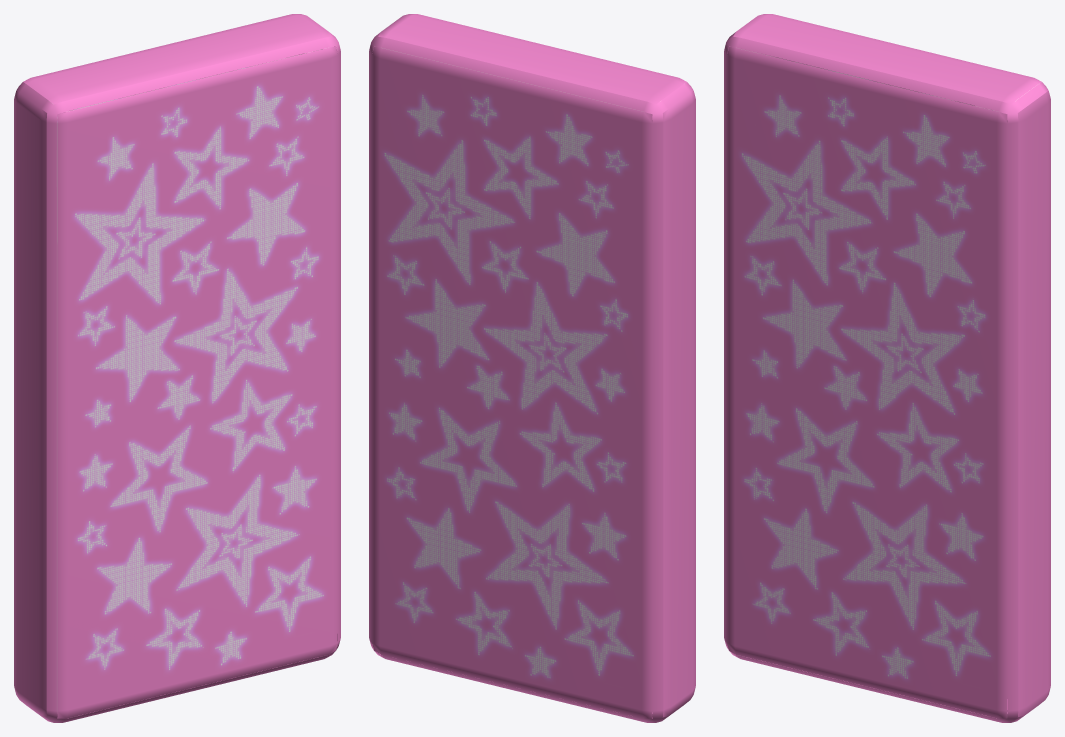
File: Y_drop_target.fbx
3 views of the same model, side by side, from view 1: azimuth 30°, elevation 25°; view 2: azimuth 150°, elevation 25°; view 3: azimuth 330°, elevation 25° (orthographic).
Parts seen in each view (by area): view 1: Y_drop_target; view 2: Y_drop_target; view 3: Y_drop_target.
Part boxes in pixels (x1=…): Y_drop_target: x1=14, y1=14, x2=340, y2=722; Y_drop_target: x1=369, y1=14, x2=695, y2=722; Y_drop_target: x1=724, y1=14, x2=1050, y2=722.
Bounding box in the file's own units: 0.6 × 1.2 × 0.15.
Materials: 1 (1 with a texture image).
